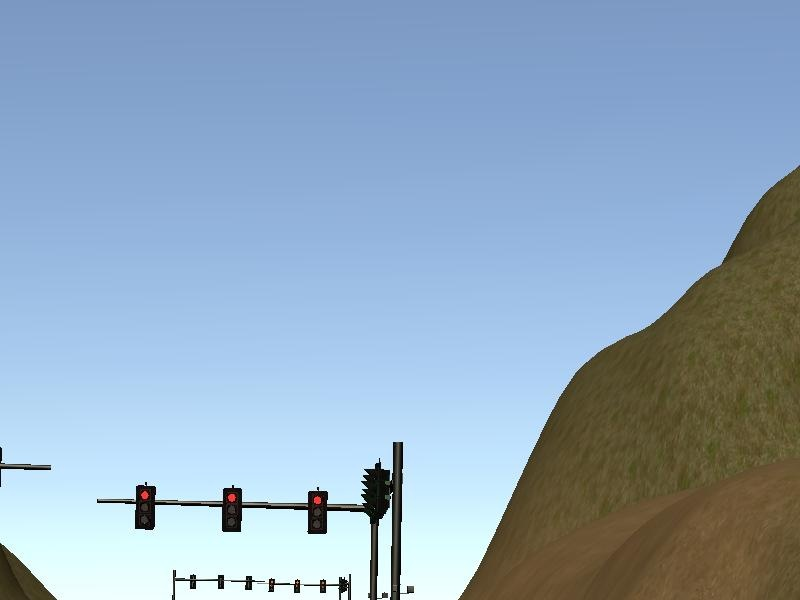red: (221, 484, 246, 540), (303, 487, 330, 537), (133, 481, 157, 534)
